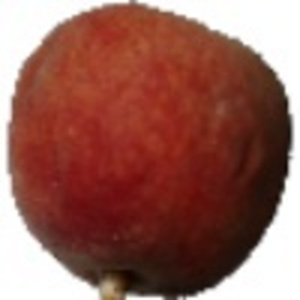pêssego: (5, 1, 293, 300)
